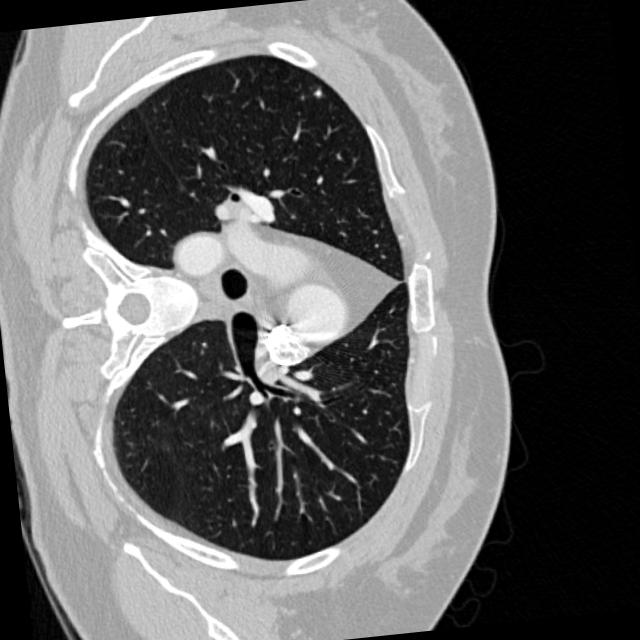nodule: (308, 83, 330, 105)
